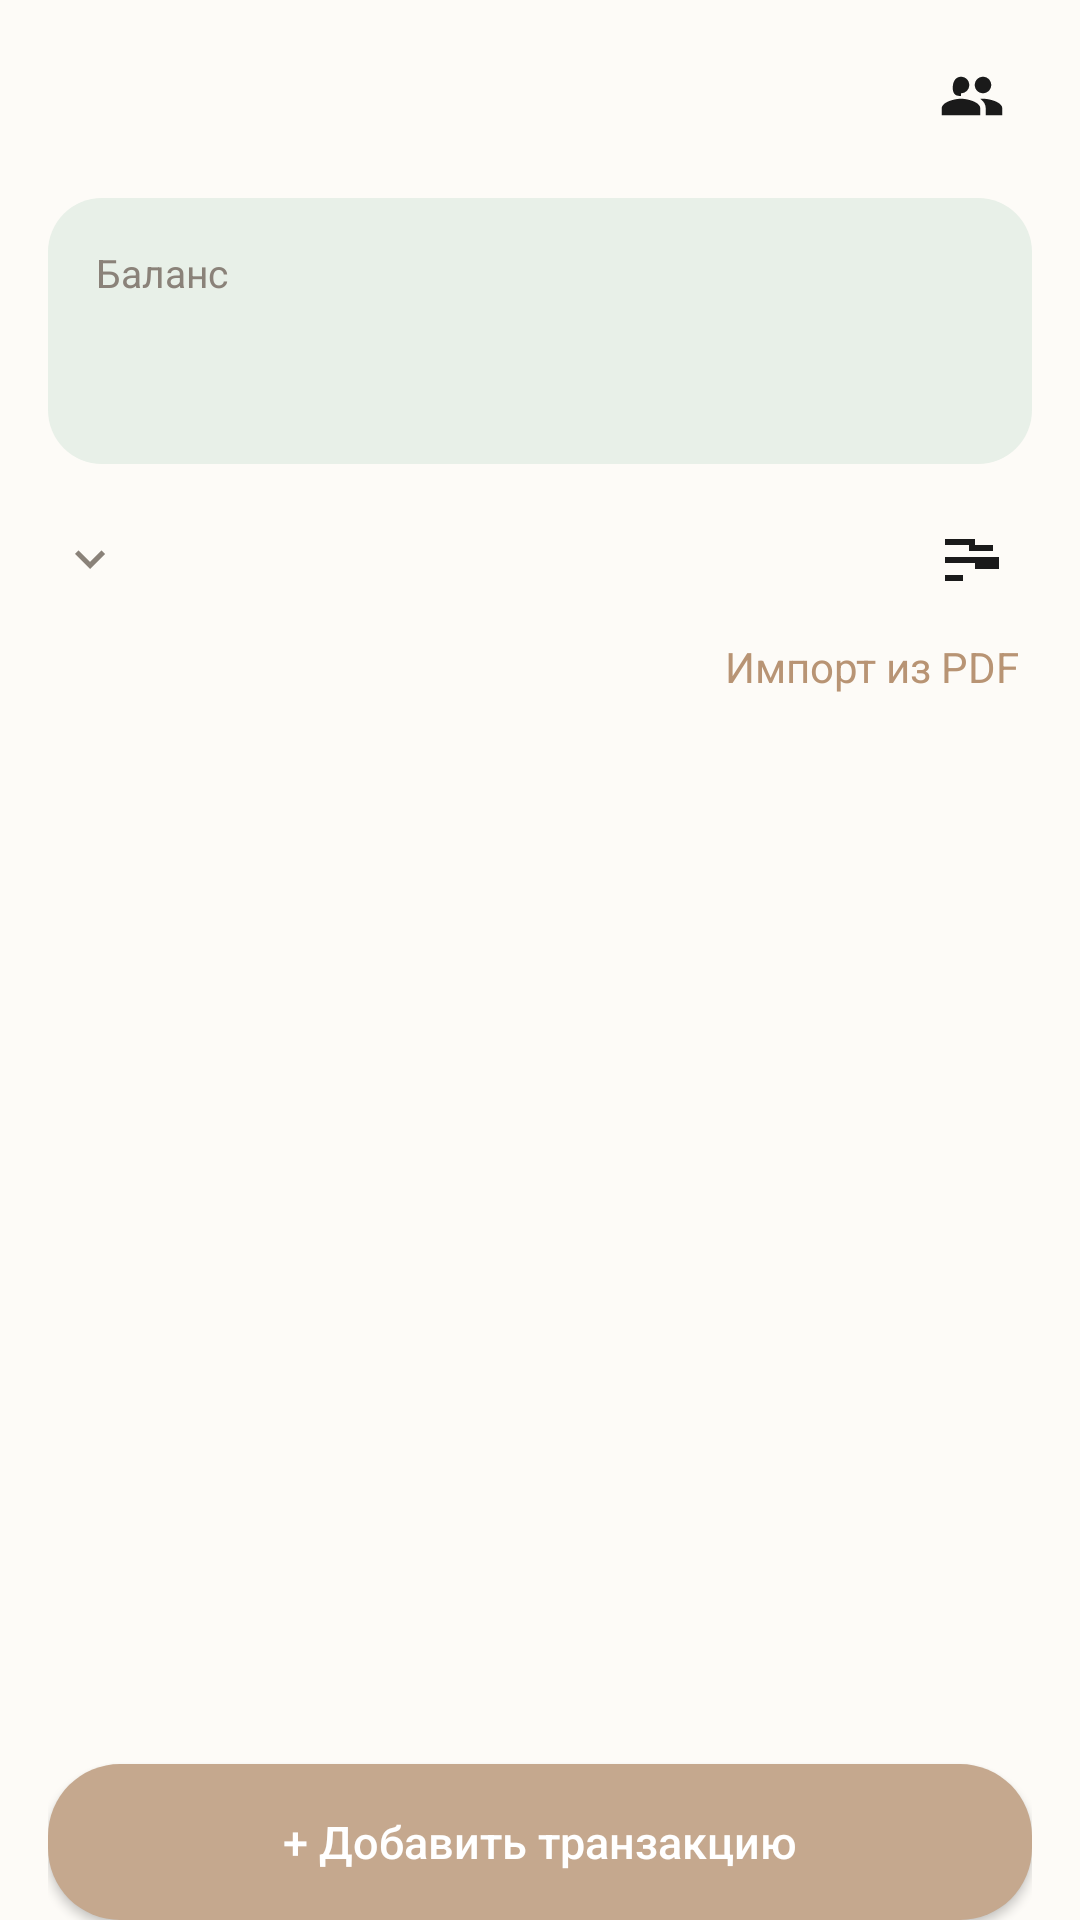

Icon bounding boxes for this 1080 × 1920 phone screenshot, format region(x1, y1, x2, y2):
expand more: region(75, 550, 105, 569)
Участники: region(941, 76, 1003, 116)
Фильтр: region(945, 539, 999, 581)
